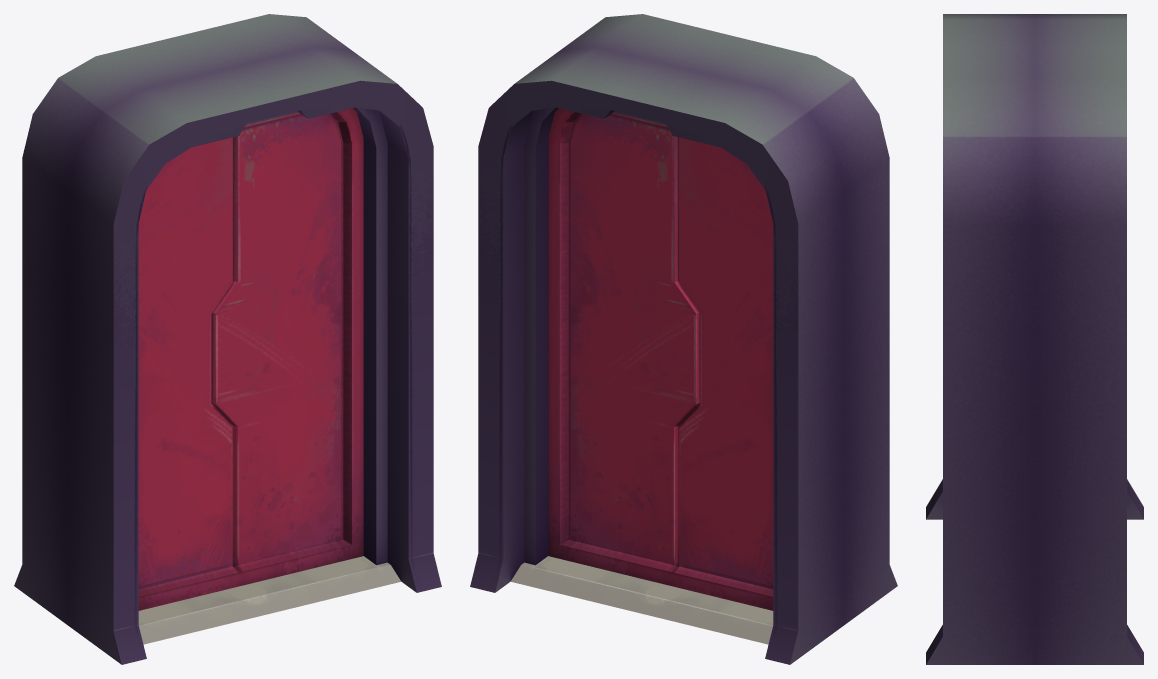
Rendered from Door_Tunnel.glb.
3 views of the same model, side by side, from view 1: azimuth 30°, elevation 25°; view 2: azimuth 150°, elevation 25°; view 3: azimuth 270°, elevation 25° (orthographic).
Visible parts, largest first — view 1: Seal_Door1.001, Seal_Door_R, Seal_Door_L; view 2: Seal_Door1.001, Seal_Door_R, Seal_Door_L; view 3: Seal_Door1.001.
Part boxes in pixels (x1,y1,x2,y2): Seal_Door1.001: (14,14,441,664); Seal_Door_R: (211,108,363,585); Seal_Door_L: (138,137,239,610); Seal_Door1.001: (470,14,897,664); Seal_Door_R: (548,108,700,585); Seal_Door_L: (672,137,773,610); Seal_Door1.001: (926,14,1143,664).
Bounding box in the file's own units: 1.57 × 2.43 × 0.918.
1 material, 1 textured.
